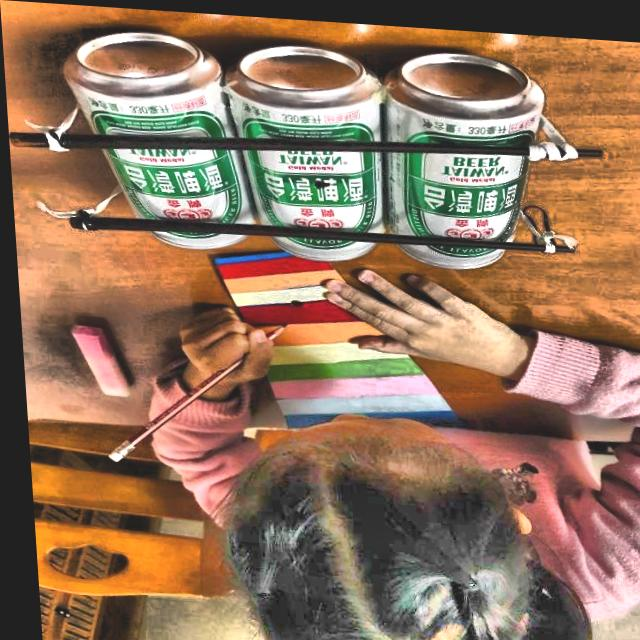can: (56, 21, 265, 262), (369, 36, 562, 272), (228, 36, 397, 265)
